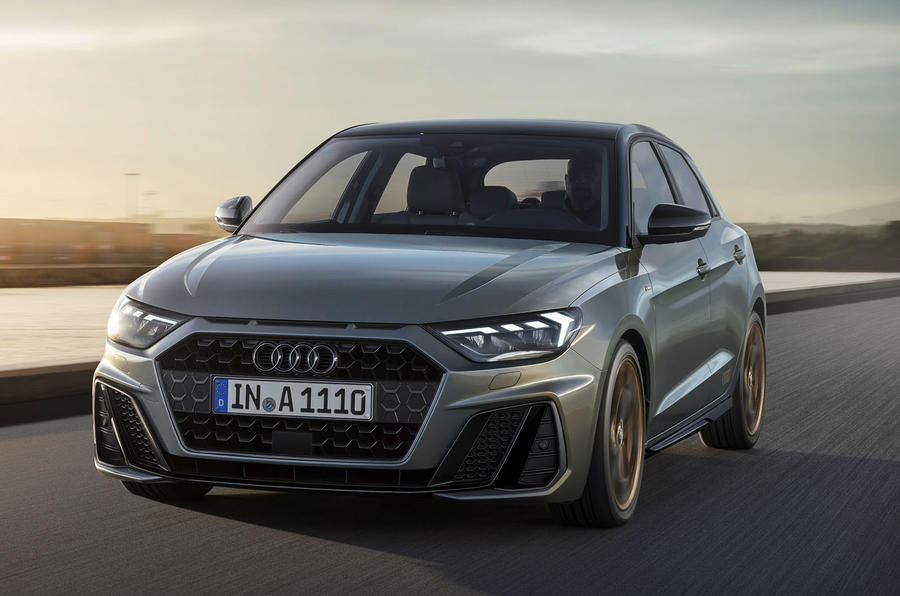audi: (88, 112, 770, 535)
